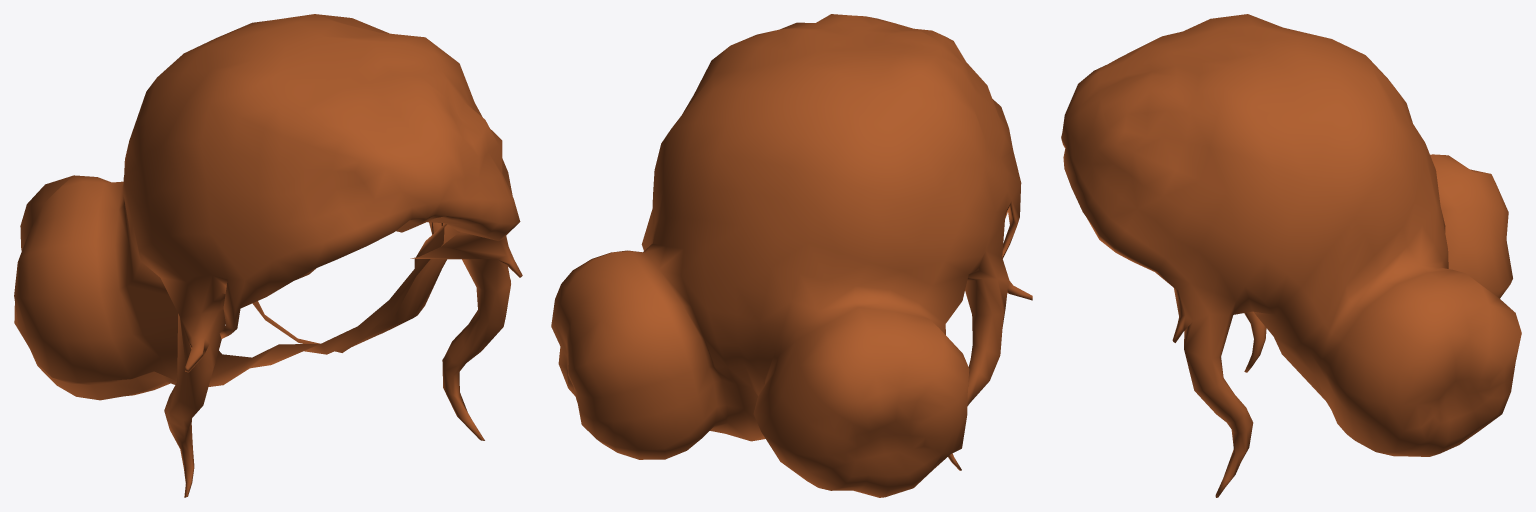
3 views of the same model, side by side, from view 1: azimuth 30°, elevation 25°; view 2: azimuth 150°, elevation 25°; view 3: azimuth 270°, elevation 25° (orthographic). The views are drawn at different scales.
Visible parts, largest first — view 1: Wolf3D_Hair.090; view 2: Wolf3D_Hair.090; view 3: Wolf3D_Hair.090.
Part boxes in pixels (box(x1,y1,x2,y2)): Wolf3D_Hair.090: box(14, 14, 522, 497); Wolf3D_Hair.090: box(551, 14, 1032, 497); Wolf3D_Hair.090: box(1061, 14, 1521, 497).
Bounding box in the file's own units: 0.2329 × 0.219 × 0.2387.
Materials: 1 (1 with a texture image).
